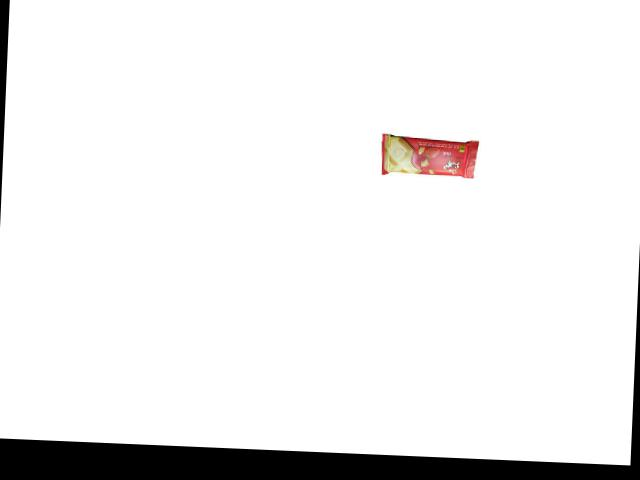chocolate: (380, 127, 485, 181)
